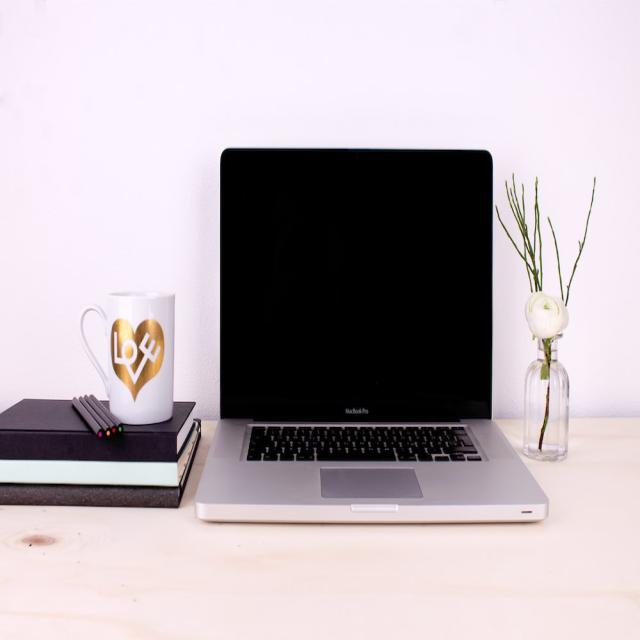keyboard: (209, 422, 540, 504)
